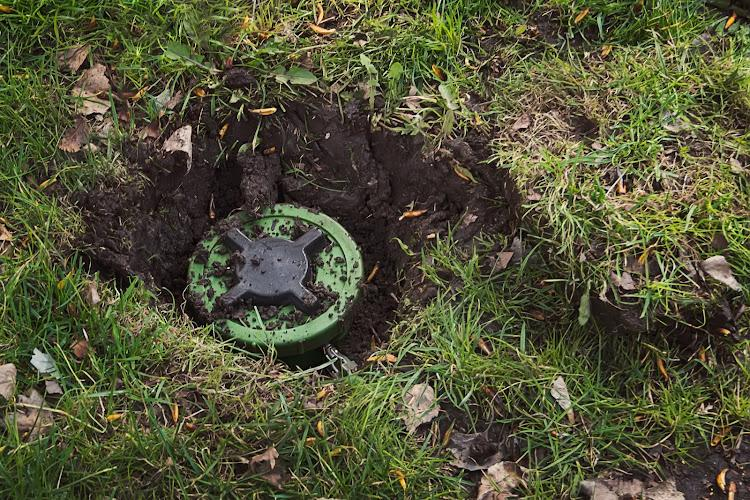pmn: (183, 200, 369, 375)
